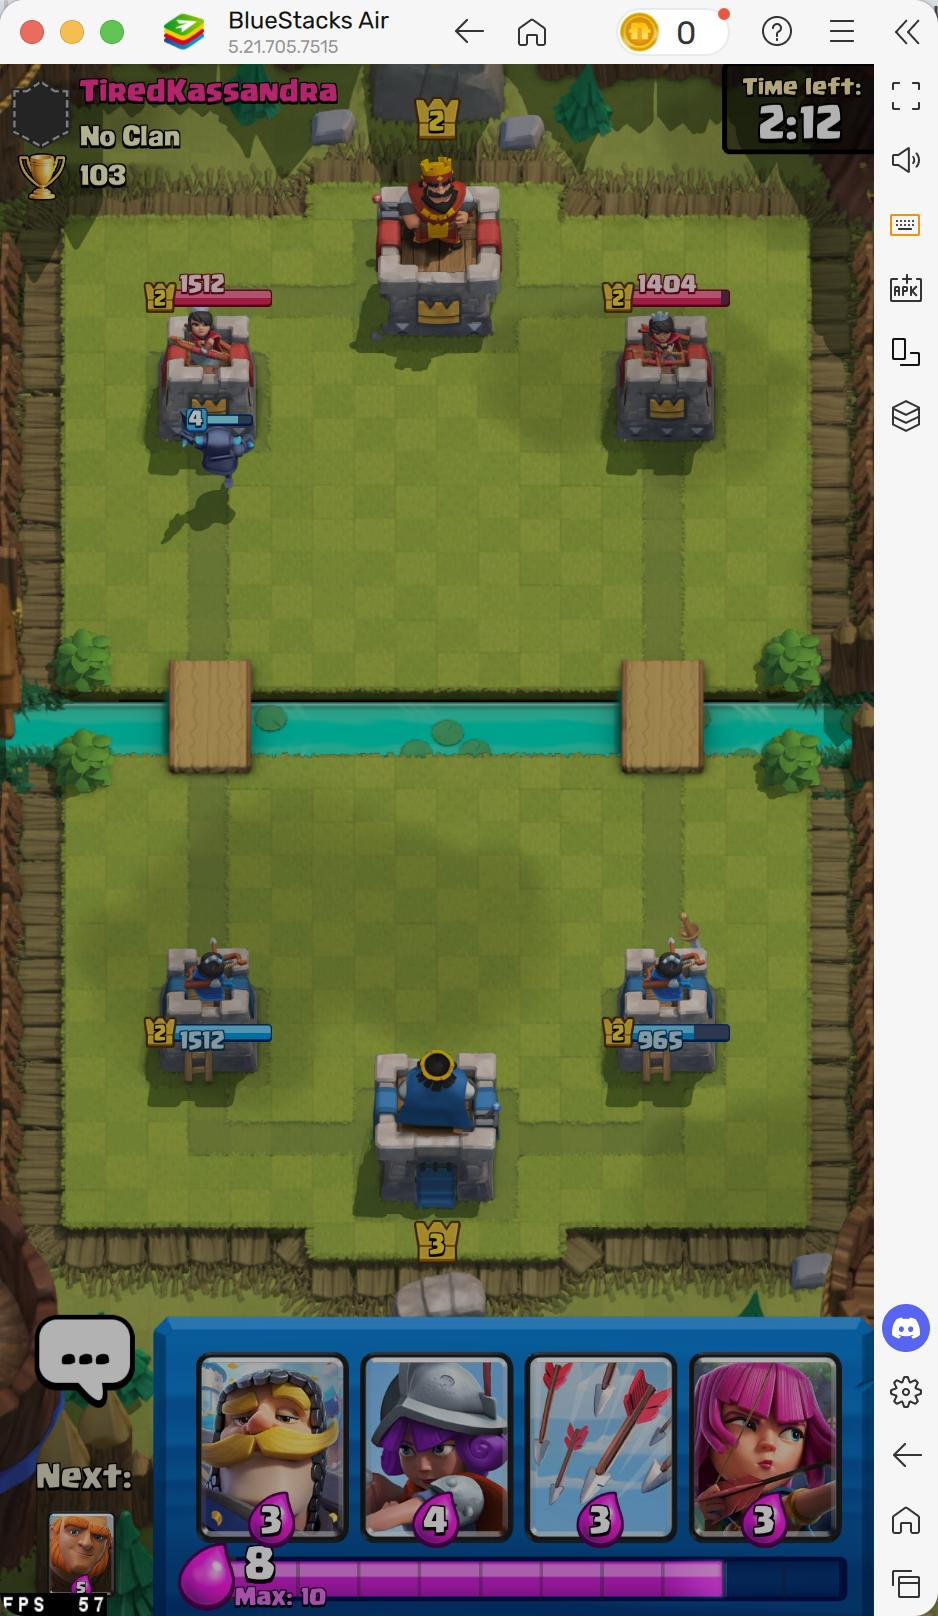0: (662, 272, 682, 294)
1: (798, 104, 817, 142), (179, 1028, 191, 1052), (201, 1028, 213, 1052), (635, 272, 648, 295), (200, 272, 212, 295), (178, 272, 190, 294)
2: (757, 103, 786, 143), (814, 103, 843, 141), (211, 271, 226, 296), (210, 1029, 226, 1051)
3: (752, 1503, 778, 1539), (587, 1502, 613, 1539), (259, 1502, 284, 1538)
4: (419, 1503, 452, 1538), (679, 272, 699, 295), (645, 271, 664, 295)
5: (668, 1028, 685, 1052), (188, 1029, 204, 1052), (186, 272, 203, 295), (75, 1579, 87, 1597)
7: (652, 1028, 668, 1052)
9: (636, 1028, 654, 1052)
Battle: (242, 1543, 277, 1584)
Enemy Tower: (614, 312, 717, 443), (157, 315, 258, 446)
Friendly Tower: (160, 945, 262, 1074), (618, 945, 718, 1072)
